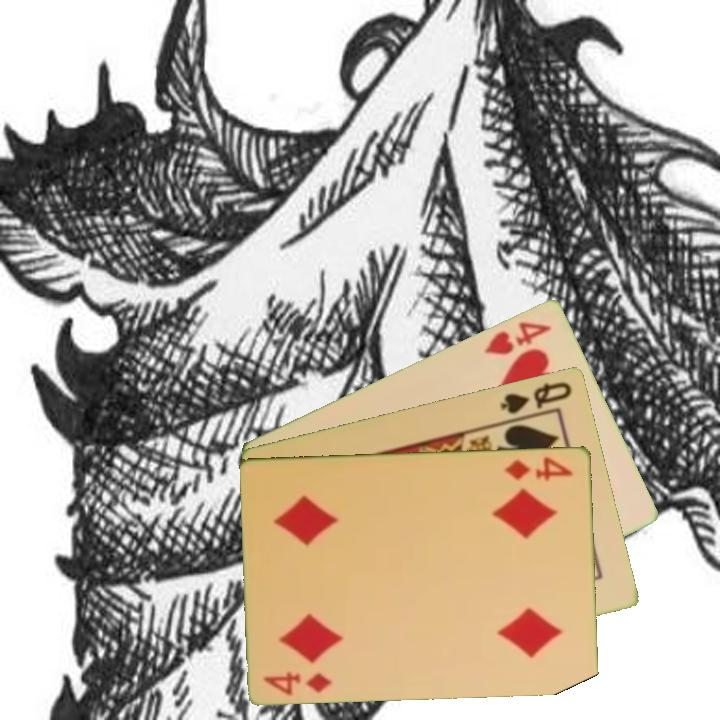4d: (260, 667, 335, 697), (502, 453, 576, 483)
4h: (480, 317, 555, 358)
Qs: (497, 377, 575, 417)
